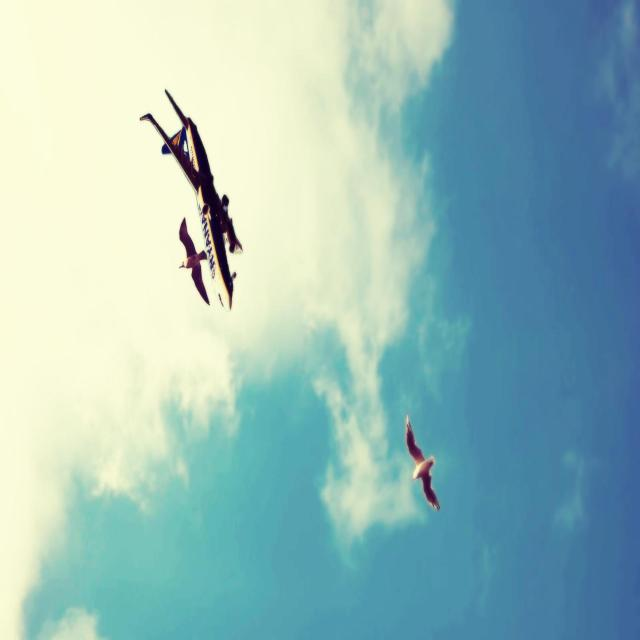airplane: (139, 88, 243, 312)
